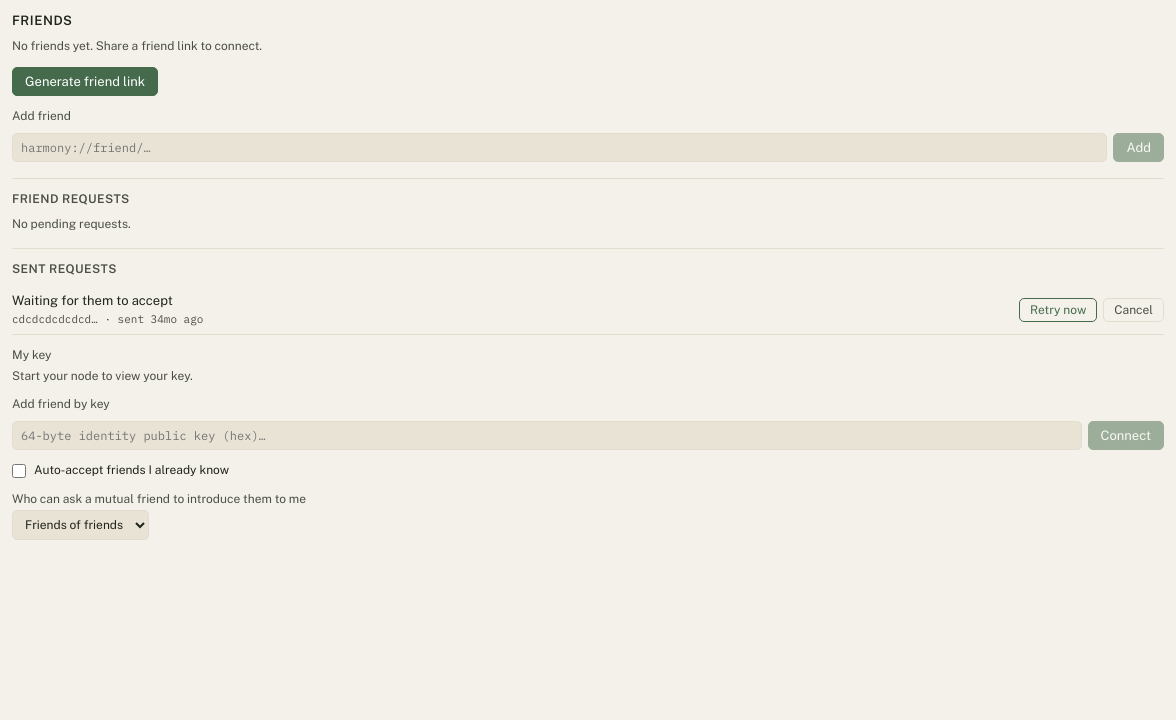
FriendsPanel — outbound requests (ZEB-784 / ZEB-783) › Retry now dials once and reports the link when the peer has accepted
This screenshot has width=1176, height=720.
Check: the element with test id "outbound-requests-section" is shown, box top-left (12, 248), bottom-right (1164, 335)
What coordinates should you click on to do the following:
click the button "Retry now"
I would click on:
 (1058, 310)
Its box is top-left (1019, 298), bottom-right (1097, 322).
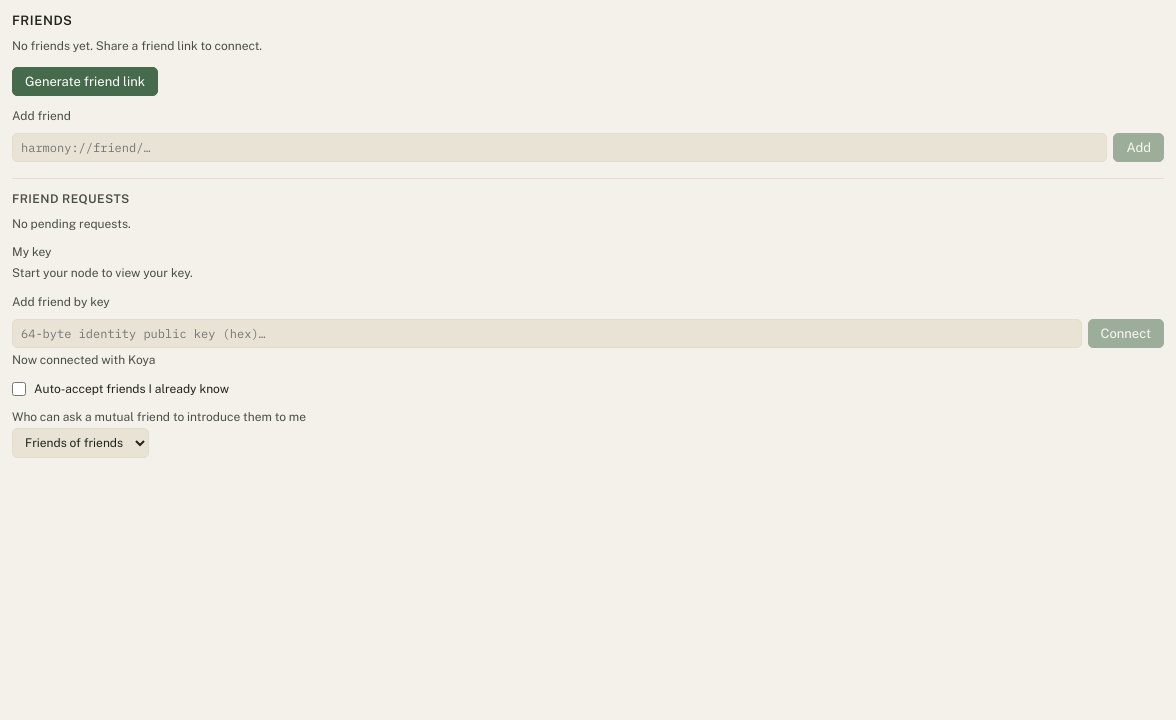
Check: the text with test id "add-by-key-status" shows "Now connected", box top-left (12, 353), bottom-right (156, 367)
